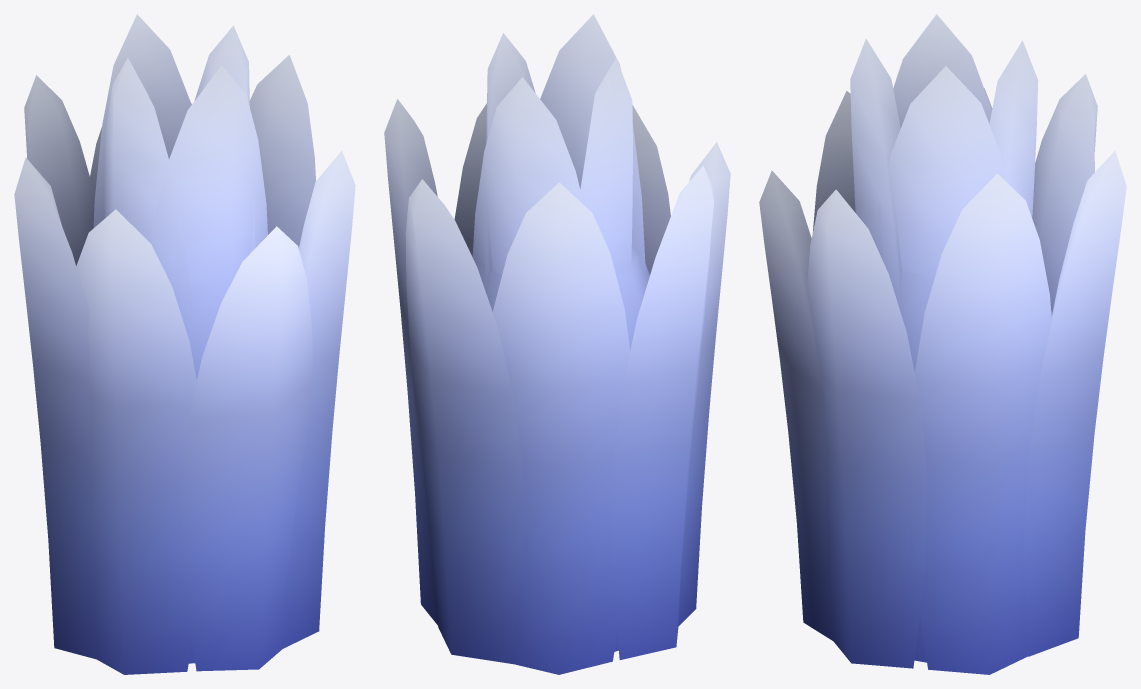
The model's file is SugarGrass.fbx.
The picture shows the model from 3 angles, left to right: view 1: azimuth 30°, elevation 25°; view 2: azimuth 150°, elevation 25°; view 3: azimuth 270°, elevation 25°; orthographic projection.
Parts seen in each view (by area): view 1: SugarGrass; view 2: SugarGrass; view 3: SugarGrass.
Boxes of the visible parts, bbox=[...] form: SugarGrass: bbox=[14, 14, 355, 674]; SugarGrass: bbox=[384, 14, 730, 674]; SugarGrass: bbox=[759, 14, 1126, 674].
Size of the model in its own units: 0.827 by 1.49 by 0.8516.
Materials: 2 (2 with a texture image).
